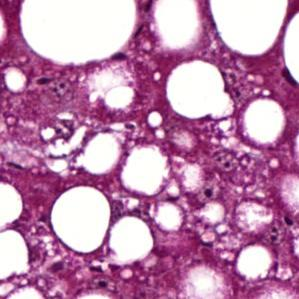steatosis: (51, 183, 114, 256), (168, 62, 228, 121)
